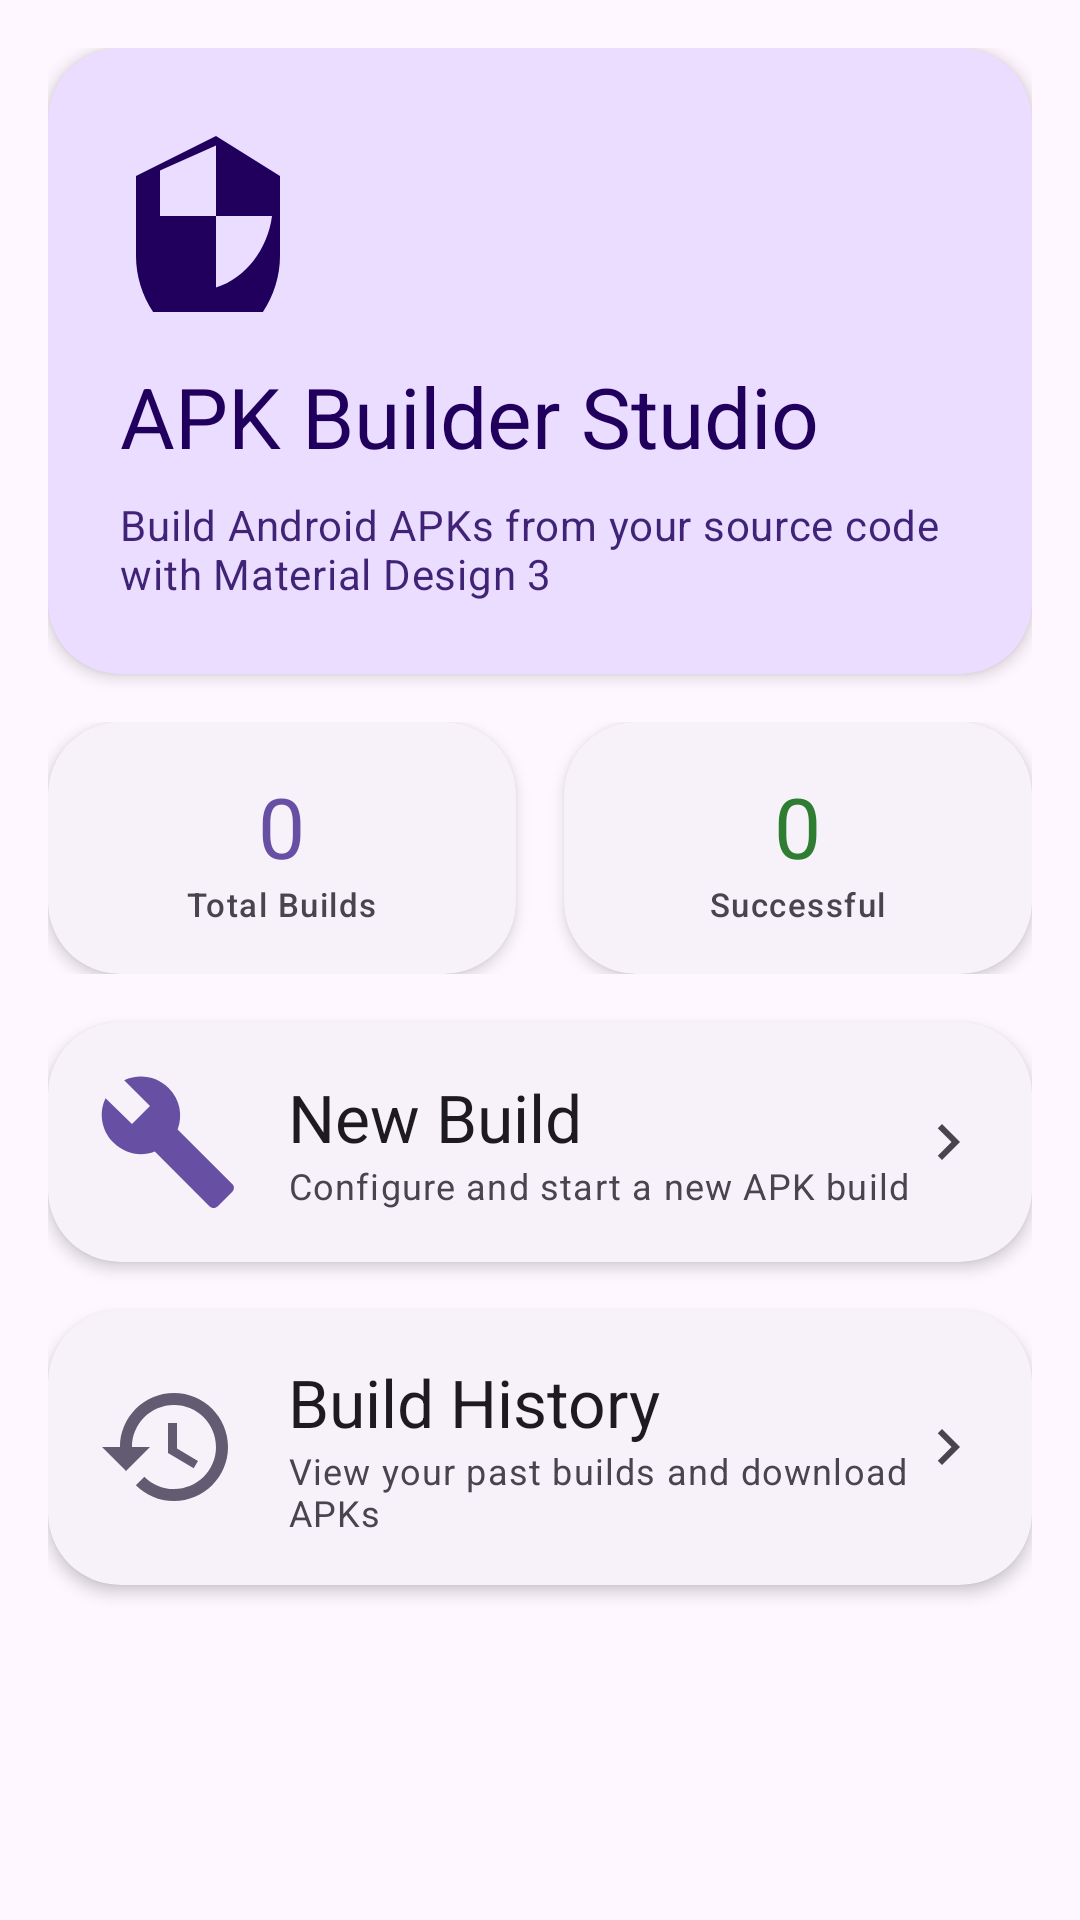

Named icons in this screenshot (1080×1920) and their centers, [x,y]:
Arrow: [949,1142], [949,1447]
